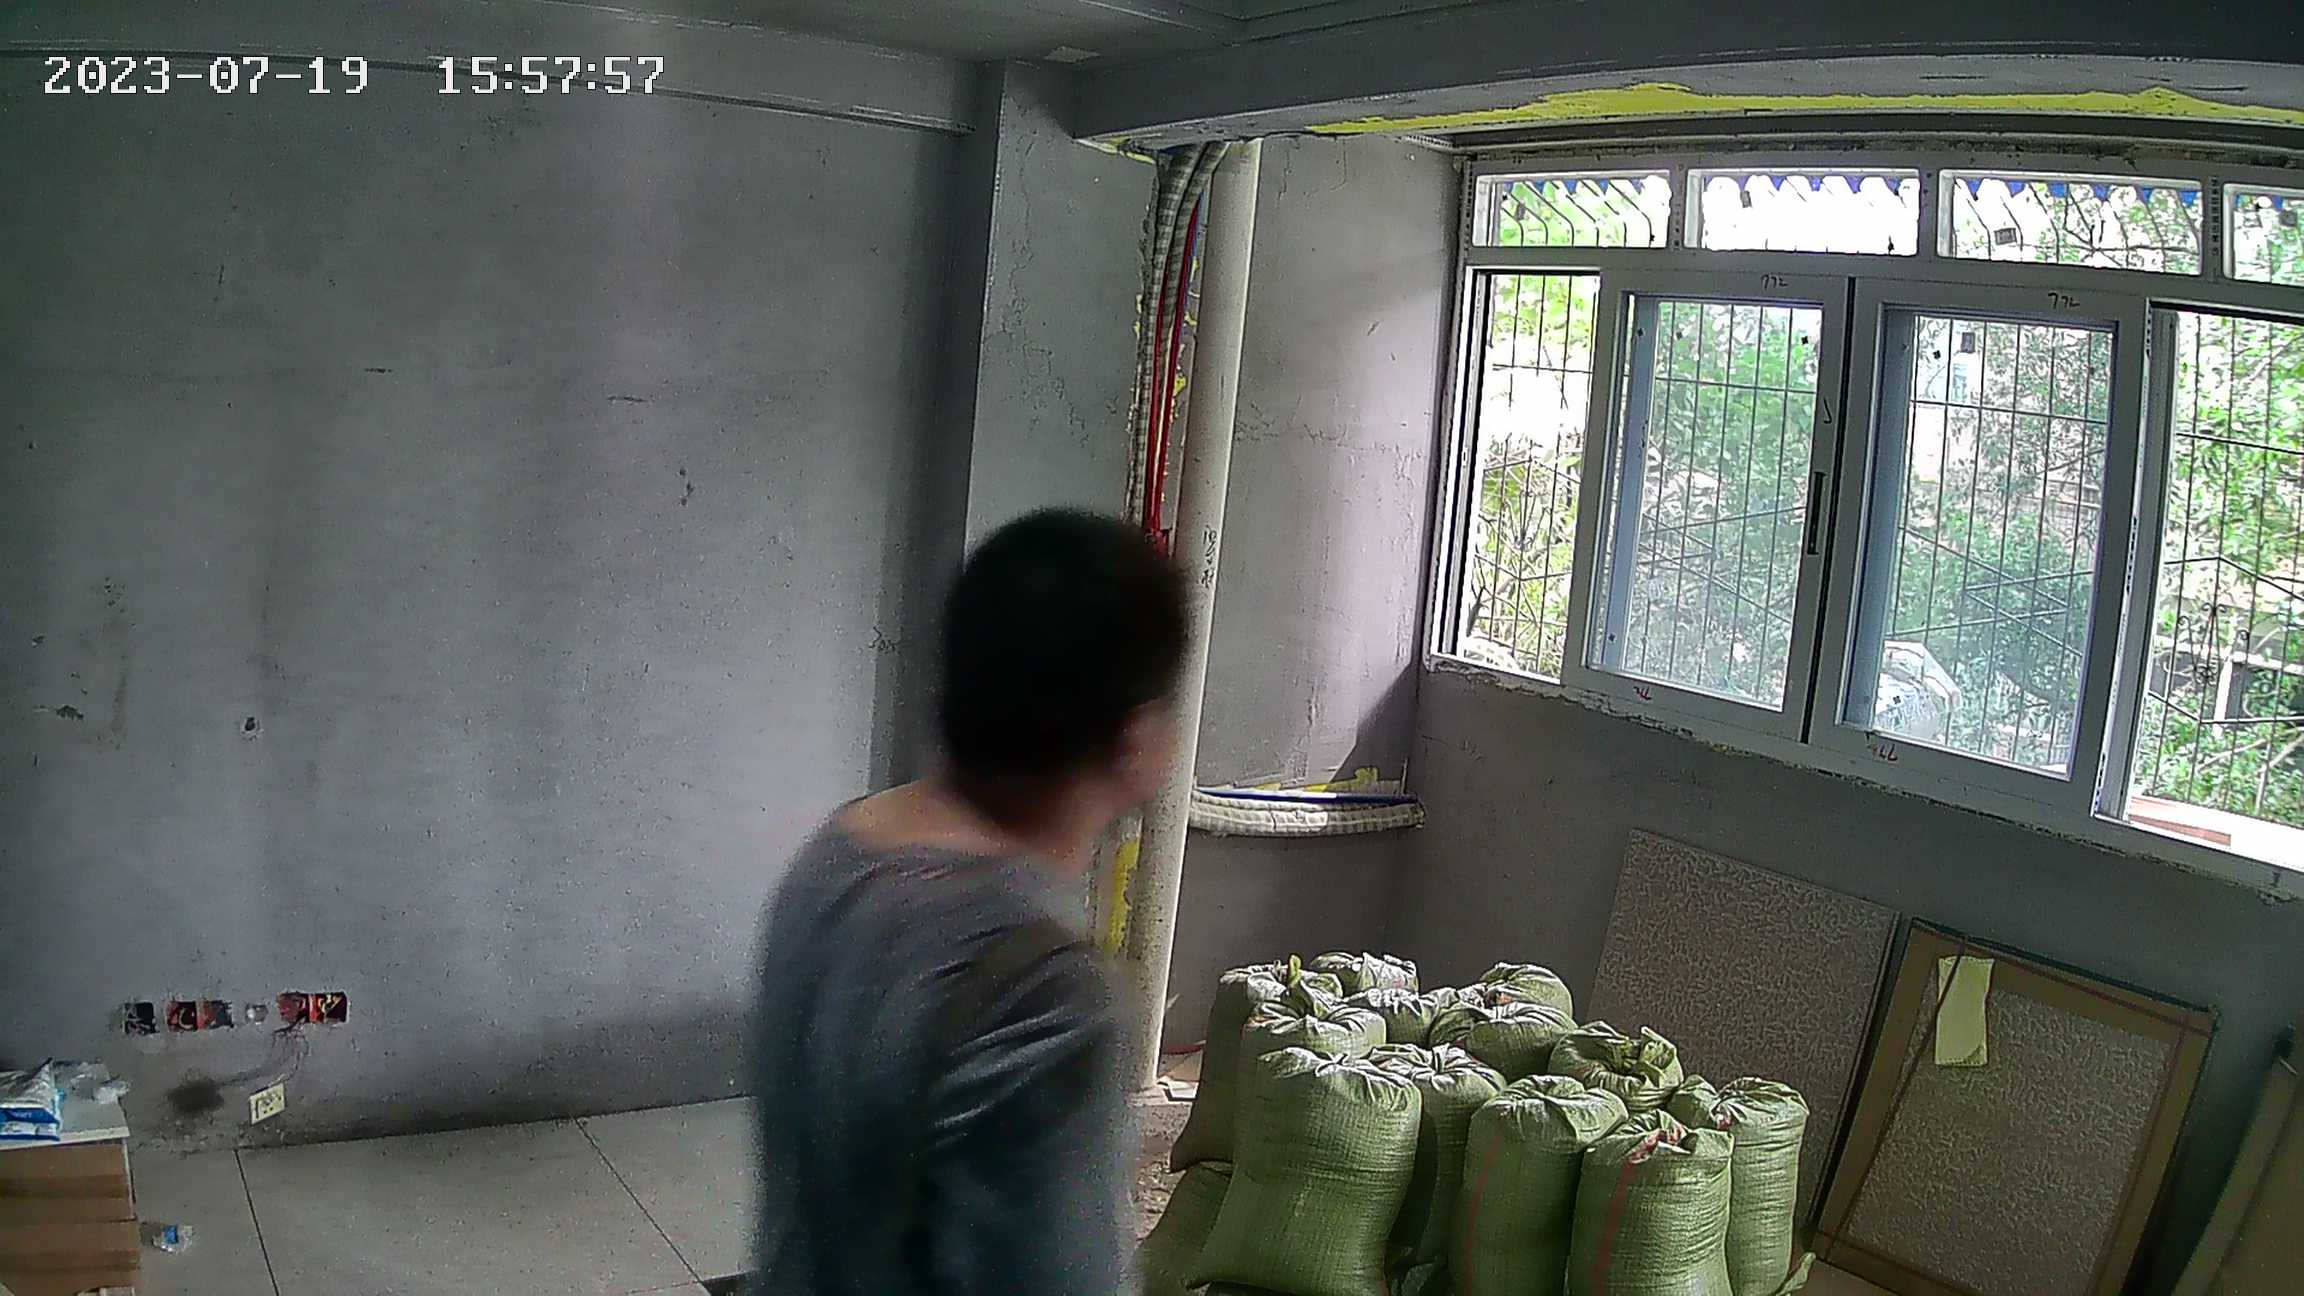people: (717, 491, 1188, 1296)
window: (1463, 152, 2304, 889)
